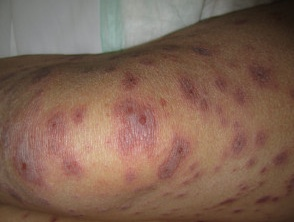SJS-TEN: (96, 19, 294, 222), (0, 68, 94, 215)
